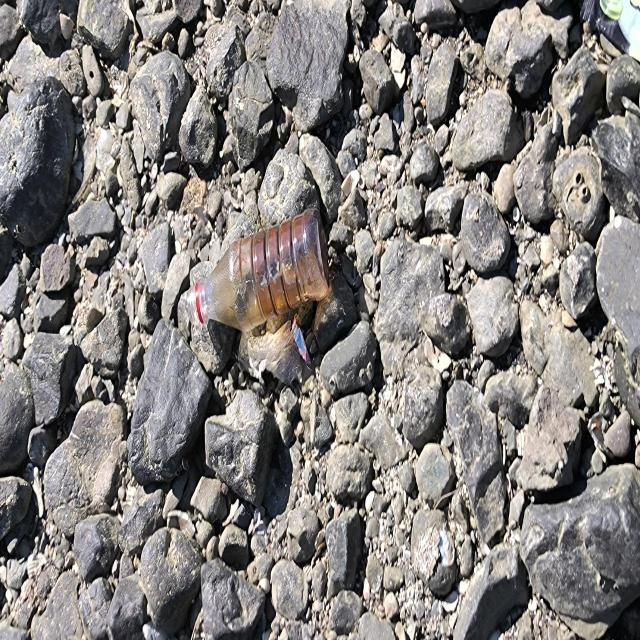plastic_waste: (187, 208, 333, 334)
